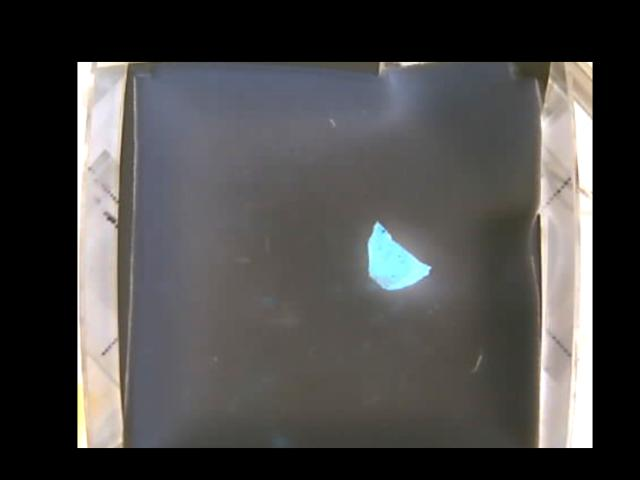Brisk: (367, 220, 431, 291)
